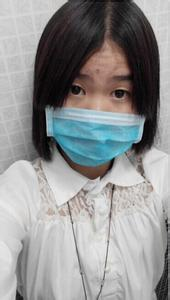face_mask: (57, 35, 139, 166)
